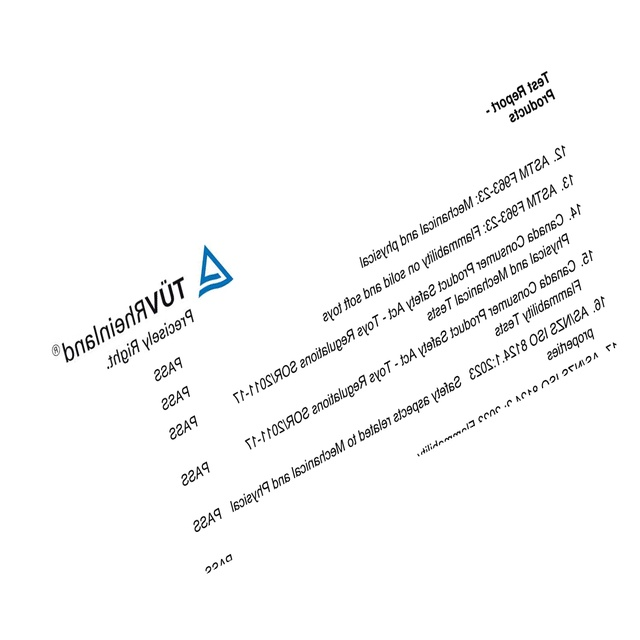tuv_rheinland: (48, 240, 236, 367)
